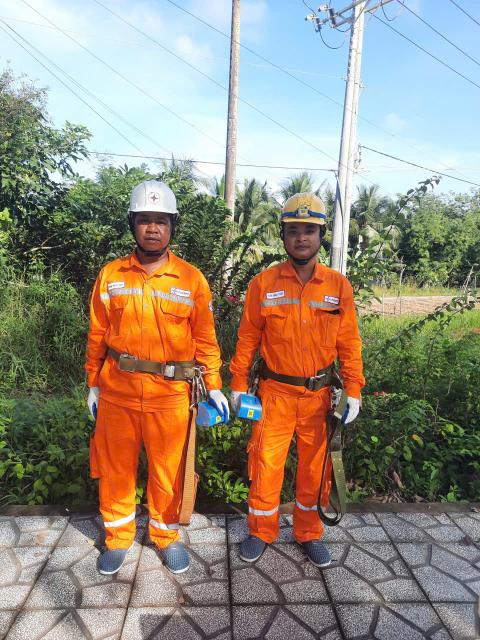gloves: (203, 385, 232, 420), (84, 382, 104, 421), (345, 386, 360, 430), (231, 382, 244, 418)
harness: (97, 338, 205, 387), (260, 352, 347, 396)
helmet: (277, 183, 333, 234), (123, 183, 185, 218)
shoes: (151, 537, 204, 579), (290, 530, 333, 571), (226, 524, 265, 567), (101, 535, 132, 578)
